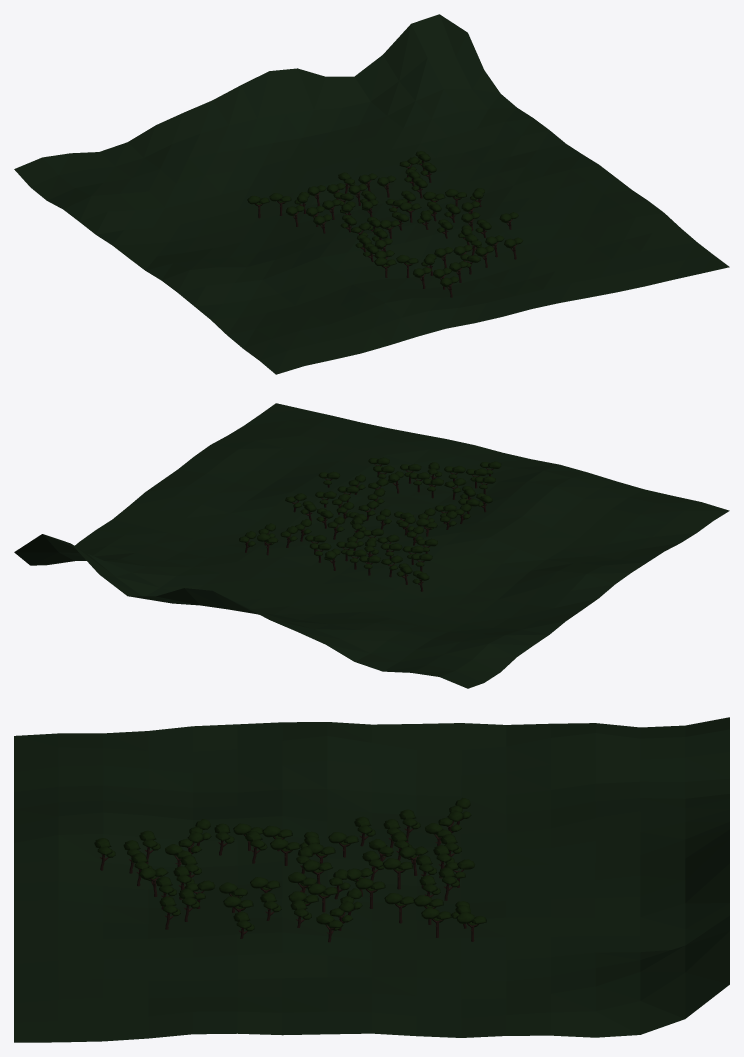
The model's file is approach_the_meteor.dae.
3 renders of one model, top to bottom at view 1: azimuth 30°, elevation 25°; view 2: azimuth 150°, elevation 25°; view 3: azimuth 270°, elevation 25°, orthographic. The views are drawn at different scales.
Visible parts, largest first — view 1: Terrain_x0y1; view 2: Terrain_x0y1; view 3: Terrain_x0y1.
Boxes of the visible parts, bbox=[...] form: Terrain_x0y1: bbox=[14, 14, 729, 374]; Terrain_x0y1: bbox=[14, 403, 729, 688]; Terrain_x0y1: bbox=[14, 717, 729, 1042].
Bounding box in the file's own units: 50 × 7.16 × 50.
